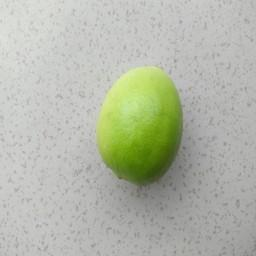Good_lime: (92, 60, 189, 186)
